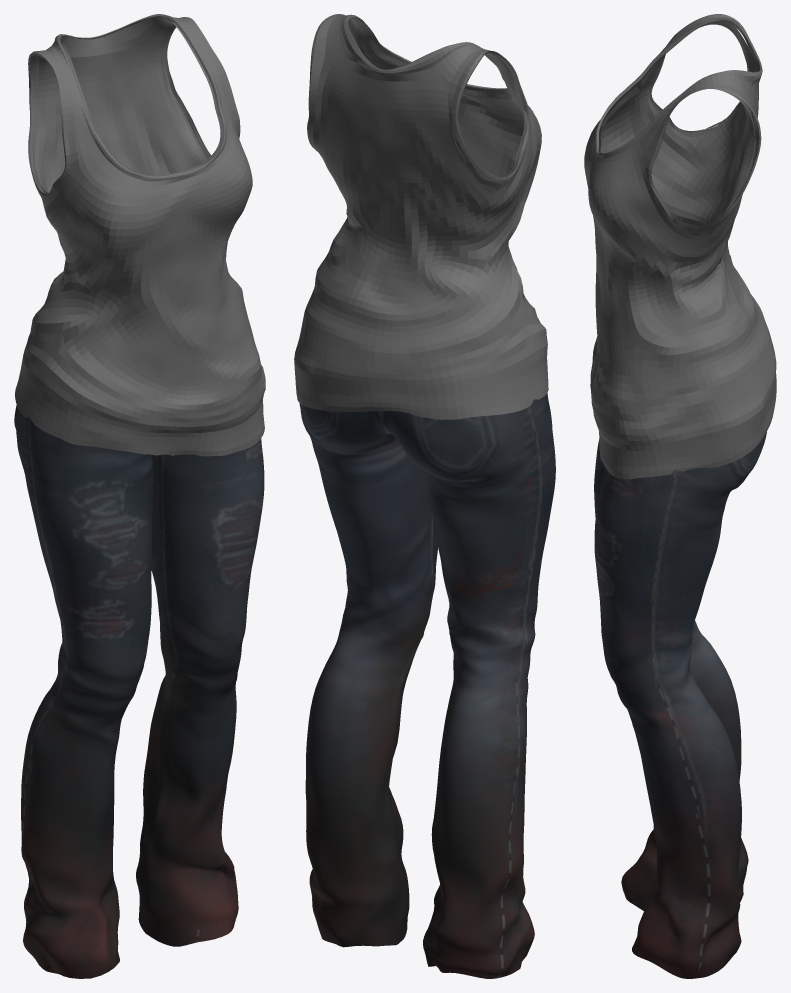
File: ShirtAndPant.fbx
The picture shows the model from 3 angles, left to right: view 1: azimuth 30°, elevation 25°; view 2: azimuth 150°, elevation 25°; view 3: azimuth 270°, elevation 25°; orthographic projection. The views are drawn at different scales.
Visible parts, largest first — view 1: Latourette_Alanna_AVG_W1_Jeans:Jeans_lowpoly, highpolyshirt4:Group63923; view 2: Latourette_Alanna_AVG_W1_Jeans:Jeans_lowpoly, highpolyshirt4:Group63923; view 3: highpolyshirt4:Group63923, Latourette_Alanna_AVG_W1_Jeans:Jeans_lowpoly.
Boxes of the visible parts, box(x1,y1,x2,y2) form: Latourette_Alanna_AVG_W1_Jeans:Jeans_lowpoly: box(14, 405, 264, 978); highpolyshirt4:Group63923: box(15, 14, 265, 456); Latourette_Alanna_AVG_W1_Jeans:Jeans_lowpoly: box(299, 393, 555, 978); highpolyshirt4:Group63923: box(294, 14, 548, 419); highpolyshirt4:Group63923: box(584, 14, 776, 479); Latourette_Alanna_AVG_W1_Jeans:Jeans_lowpoly: box(594, 432, 766, 978).
Size of the model in its own units: 71.87 by 285 by 55.79.
2 materials, 1 textured.
